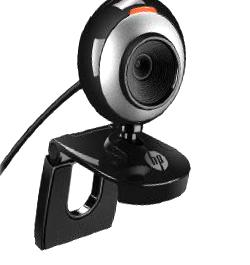webcam: (61, 1, 199, 137)
